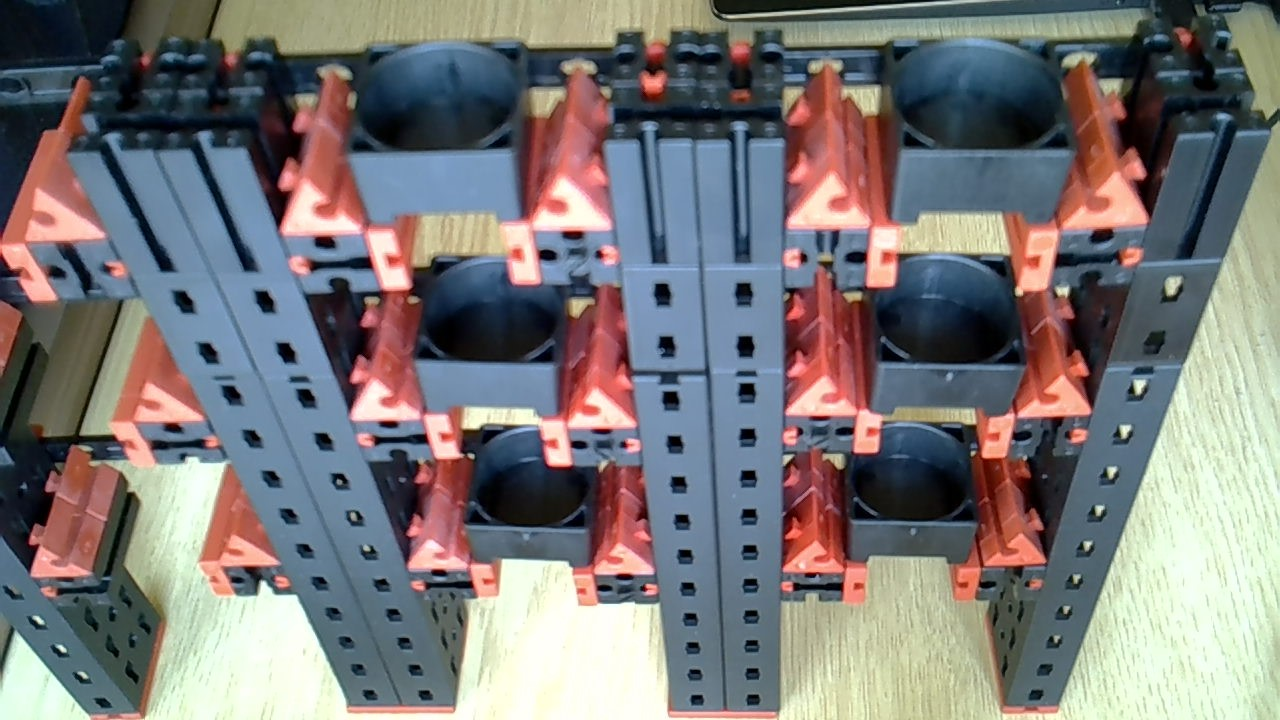Behaelter: (879, 40, 1071, 218), (350, 44, 529, 218), (867, 259, 1022, 407), (423, 257, 560, 410), (469, 436, 595, 568), (855, 433, 979, 557)
